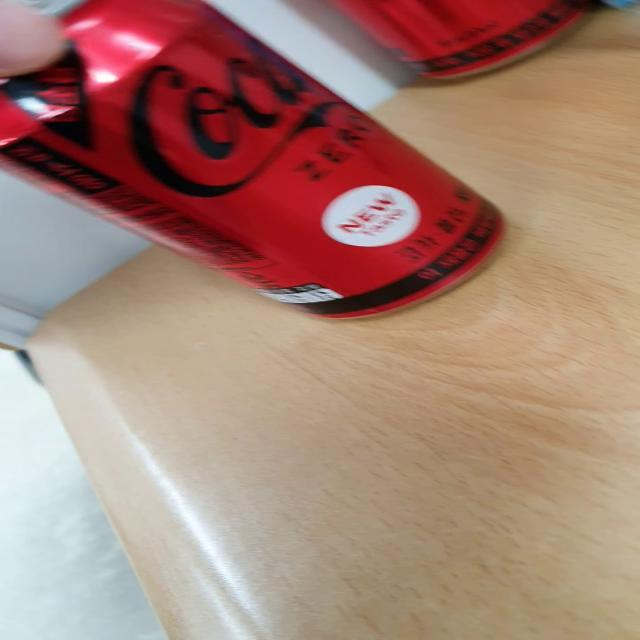coca-cola: (8, 2, 524, 338)
